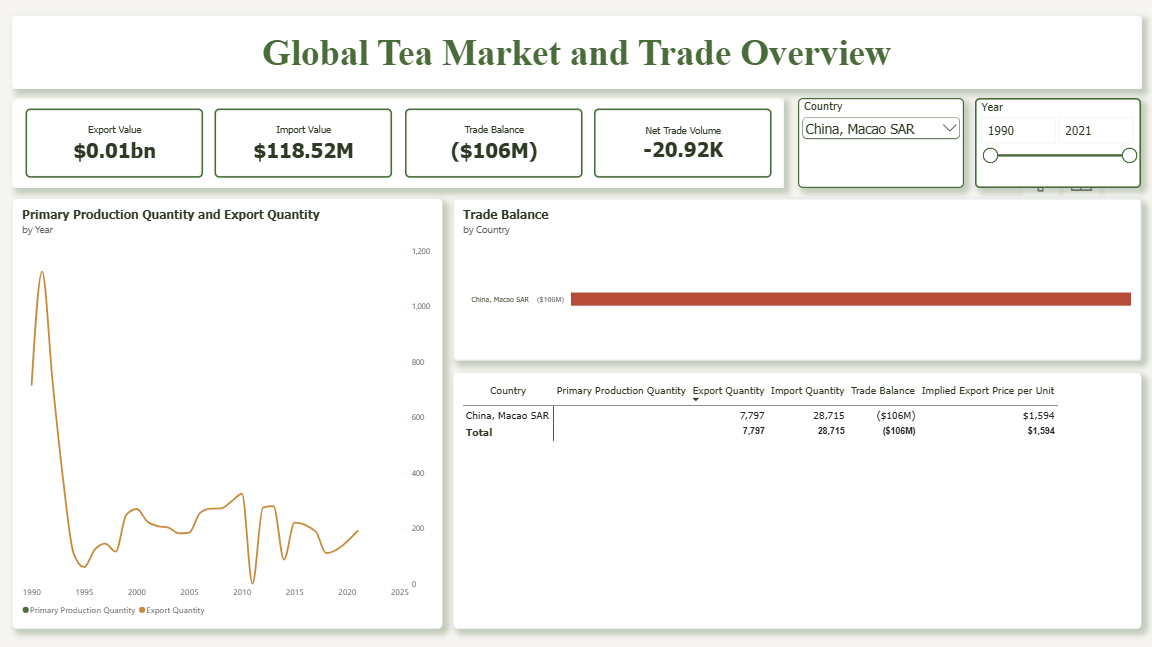

The page's visual inventory and layout, read from the dashboard file:
{"tool":"powerbi","page":{"name":"Page 1","canvas":[1920,1080],"ordinal":0},"visuals":[{"type":"shape","box":[19.1,164.6,1286,150.3],"z":0},{"type":"lineChart","fields":{"Category":["Dim_Date.Year"],"Y":["_Measures.Primary Production Quantity"],"Y2":["_Measures.Export Quantity"]},"box":[20,332.5,717.5,717.5],"z":1000},{"type":"clusteredBarChart","fields":{"Category":["Dim_Country.Country"],"Y":["_Measures.Trade Balance"]},"box":[755,332.5,1147.5,270],"z":2000},{"type":"pivotTable","fields":{"Rows":["Dim_Country.Country"],"Values":["_Measures.Primary Production Quantity","_Measures.Export Quantity","_Measures.Import Quantity","_Measures.Trade Balance","_Measures.Implied Export Price per Unit"]},"box":[755,622.5,1147.5,427.5],"z":3000},{"type":"slicer","fields":{"Values":["Dim_Country.Country"]},"box":[1329,164.6,276.8,150.3],"z":4000},{"type":"slicer","fields":{"Values":["Dim_Date.Year"]},"box":[1624.8,164.6,276.8,150.3],"z":5000},{"type":"shape","box":[20,27.5,1882.5,122.5],"z":6000},{"type":"cardVisual","fields":{"Data":["_Measures.Export Value"]},"box":[42.5,182.5,296.2,115],"z":7000},{"type":"cardVisual","fields":{"Data":["_Measures.Import Value"]},"box":[356.2,182.5,296.2,115],"z":8000},{"type":"cardVisual","fields":{"Data":["_Measures.Trade Balance"]},"box":[673.8,182.5,296.2,115],"z":9000},{"type":"cardVisual","fields":{"Data":["_Measures.Net Trade Volume"]},"box":[990,182.5,296.2,115],"z":10000}]}

Visuals, with their boxes in screenshot pixels (x1, y1, x2, y2), scaled from the page's 1920x1080 canvas onto the 1152x647 screenshot:
shape: 11/99/783/189
lineChart - Dim_Date.Year x _Measures.Primary Production Quantity: 12/199/442/629
clusteredBarChart - Dim_Country.Country x _Measures.Trade Balance: 453/199/1142/361
pivotTable - Dim_Country.Country x _Measures.Primary Production Quantity: 453/373/1142/629
slicer - Dim_Country.Country: 797/99/963/189
slicer - Dim_Date.Year: 975/99/1141/189
shape: 12/16/1142/90
cardVisual - _Measures.Export Value: 26/109/203/178
cardVisual - _Measures.Import Value: 214/109/391/178
cardVisual - _Measures.Trade Balance: 404/109/582/178
cardVisual - _Measures.Net Trade Volume: 594/109/772/178
